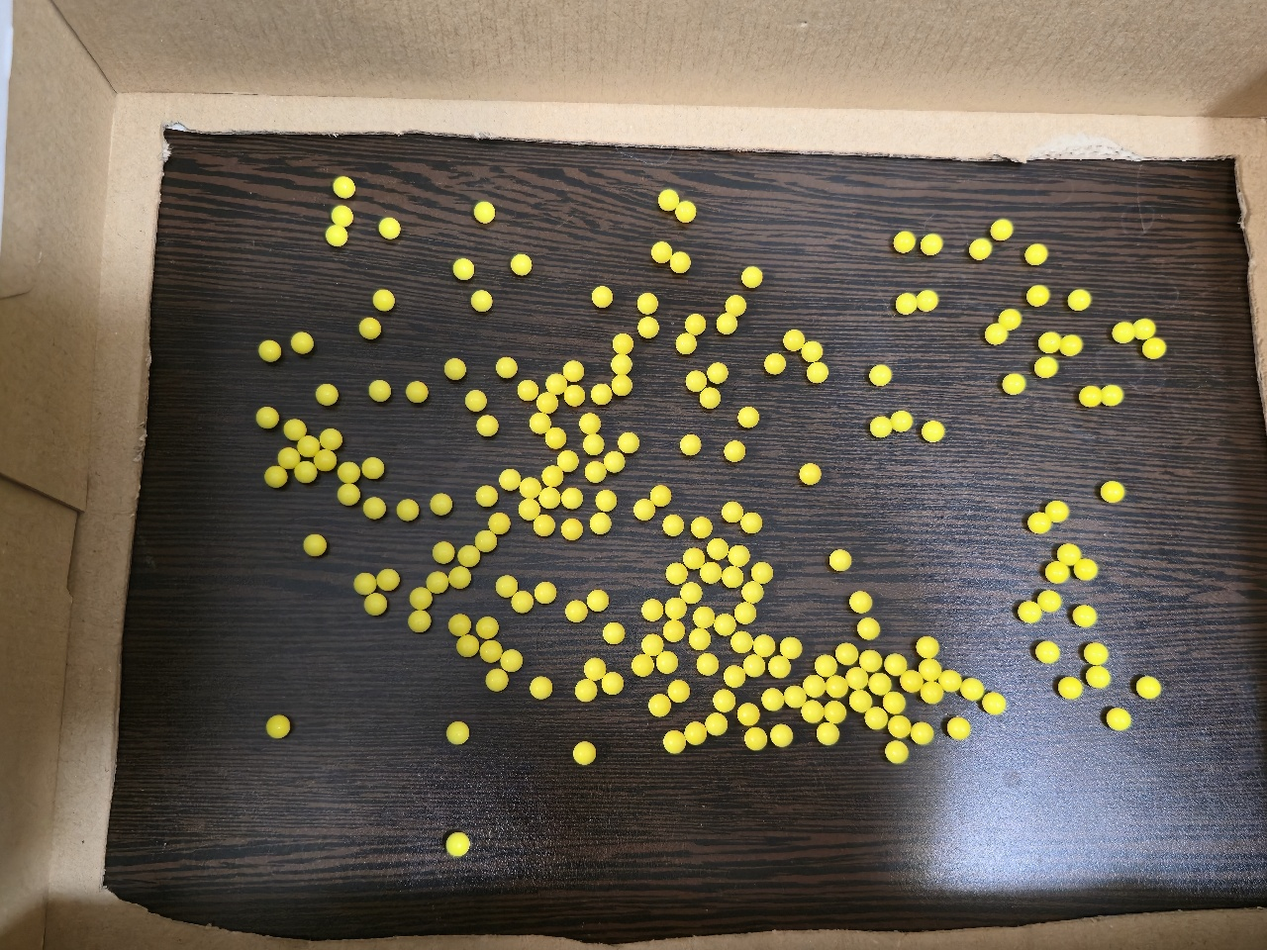yellow_bead: (1118, 324, 1148, 338), (901, 295, 932, 308), (451, 837, 464, 851), (1141, 682, 1156, 694), (1089, 648, 1104, 660), (1092, 671, 1105, 684), (965, 684, 979, 696), (894, 720, 906, 733), (272, 720, 284, 733), (870, 712, 883, 724), (830, 681, 843, 693), (1043, 596, 1056, 608), (1062, 549, 1075, 561), (1041, 647, 1055, 658), (894, 416, 908, 427), (1105, 390, 1119, 401), (1039, 361, 1053, 372), (578, 747, 590, 759), (891, 746, 903, 758), (1113, 713, 1125, 725), (889, 697, 901, 709), (855, 695, 867, 707), (767, 694, 779, 706), (809, 680, 821, 692), (874, 678, 886, 690), (773, 661, 785, 673), (890, 659, 902, 671), (485, 645, 497, 657), (953, 723, 966, 734), (988, 699, 1001, 710), (840, 649, 853, 660), (1079, 611, 1092, 622), (1023, 607, 1036, 618), (1008, 378, 1021, 389), (1043, 336, 1056, 347), (1063, 685, 1077, 695), (669, 736, 680, 748), (750, 733, 761, 745), (916, 728, 928, 739), (822, 727, 833, 739), (452, 727, 463, 739), (711, 718, 722, 730), (807, 706, 819, 717), (719, 695, 730, 707), (789, 692, 801, 703), (580, 685, 591, 697), (607, 678, 618, 690), (943, 676, 955, 687), (851, 673, 863, 684), (748, 660, 759, 672), (636, 660, 648, 671), (865, 656, 877, 667), (506, 655, 517, 667), (758, 640, 769, 652), (462, 640, 473, 652), (736, 636, 747, 648), (694, 633, 705, 645), (481, 622, 493, 633), (415, 593, 426, 605), (747, 586, 758, 598), (359, 579, 371, 590), (1030, 248, 1042, 259), (996, 224, 1008, 235), (927, 427, 940, 437), (875, 422, 888, 432), (1073, 295, 1086, 305), (776, 730, 787, 741), (690, 728, 701, 739), (829, 707, 840, 718), (673, 686, 684, 697), (491, 675, 502, 686), (925, 664, 936, 675), (589, 664, 600, 675), (820, 661, 831, 672), (702, 659, 713, 670), (922, 642, 933, 653), (785, 642, 796, 653), (668, 625, 679, 636), (863, 623, 874, 634), (370, 599, 381, 610), (855, 597, 866, 608), (592, 596, 603, 607), (686, 588, 697, 599), (539, 588, 550, 599), (501, 581, 512, 592), (382, 574, 393, 585), (454, 572, 465, 583), (706, 567, 717, 578), (834, 555, 845, 566), (688, 553, 699, 564), (463, 550, 474, 561), (713, 543, 724, 554), (480, 535, 491, 546), (402, 505, 413, 516), (368, 503, 379, 514), (544, 493, 555, 504), (481, 491, 492, 502), (343, 489, 354, 500), (525, 483, 536, 494), (300, 466, 311, 477), (609, 456, 620, 467), (588, 438, 599, 449), (325, 433, 336, 444), (374, 385, 385, 396), (875, 369, 886, 380), (264, 345, 275, 356), (297, 337, 308, 348), (516, 259, 527, 270), (926, 238, 937, 249), (384, 223, 395, 234), (663, 194, 674, 205), (654, 700, 664, 712), (991, 329, 1003, 339), (975, 243, 987, 253), (742, 709, 752, 720), (926, 689, 937, 699), (536, 683, 546, 694), (907, 676, 918, 686), (662, 657, 672, 668), (647, 640, 657, 651), (608, 628, 619, 638), (454, 620, 465, 630), (720, 619, 730, 630), (414, 616, 425, 626), (739, 608, 750, 618), (571, 606, 581, 617), (647, 605, 657, 616), (670, 604, 680, 615), (517, 597, 527, 608), (432, 577, 442, 588), (728, 572, 738, 583), (756, 568, 767, 578), (671, 568, 681, 579), (733, 551, 744, 561), (438, 547, 448, 558), (309, 540, 320, 550), (524, 504, 534, 515), (436, 499, 446, 510), (601, 496, 611, 507), (566, 494, 577, 504), (505, 474, 515, 485), (270, 471, 281, 481), (590, 467, 601, 477), (343, 467, 354, 477), (367, 463, 378, 473), (283, 453, 294, 463), (289, 425, 300, 435), (261, 413, 272, 423), (470, 396, 481, 406), (322, 389, 332, 400), (681, 338, 691, 349), (789, 334, 799, 345), (476, 296, 486, 307), (378, 295, 388, 306), (339, 182, 349, 193), (722, 317, 731, 329), (731, 301, 740, 313), (899, 237, 911, 246), (332, 229, 341, 241), (729, 672, 739, 682), (696, 522, 706, 532), (655, 491, 665, 501), (547, 471, 557, 481), (805, 469, 815, 479), (562, 456, 572, 466), (685, 440, 695, 450), (624, 437, 634, 447), (550, 433, 560, 443), (535, 418, 545, 428), (743, 412, 753, 422), (705, 393, 715, 403), (412, 387, 422, 397), (523, 385, 533, 395), (551, 379, 561, 389), (691, 376, 701, 386), (813, 367, 823, 377), (568, 366, 578, 376), (449, 364, 459, 374), (770, 358, 780, 368), (807, 346, 817, 356), (618, 339, 628, 349), (690, 320, 700, 330), (458, 264, 468, 274), (479, 207, 489, 217), (1033, 518, 1044, 527), (303, 441, 314, 450), (617, 379, 626, 390), (617, 359, 626, 370), (1005, 314, 1014, 325), (747, 271, 756, 282), (1106, 486, 1118, 494), (338, 211, 346, 223), (699, 613, 709, 622), (668, 521, 678, 530), (538, 521, 548, 530), (746, 519, 756, 528), (595, 519, 605, 528), (494, 519, 504, 528), (727, 508, 737, 517), (639, 505, 648, 515), (730, 446, 739, 456), (482, 421, 492, 430), (585, 419, 595, 428), (542, 397, 551, 407), (596, 390, 606, 399), (713, 368, 722, 378), (502, 363, 511, 373), (1068, 339, 1078, 348), (364, 324, 374, 333), (643, 323, 653, 332), (642, 299, 651, 309), (597, 292, 607, 301), (657, 247, 667, 256), (681, 206, 690, 216), (569, 390, 577, 401), (675, 257, 684, 266), (567, 525, 577, 533), (320, 455, 331, 462), (1031, 290, 1042, 297), (1055, 506, 1064, 514), (1085, 391, 1094, 399), (1055, 572, 1065, 577), (1151, 345, 1158, 350), (1088, 568, 1093, 570)
